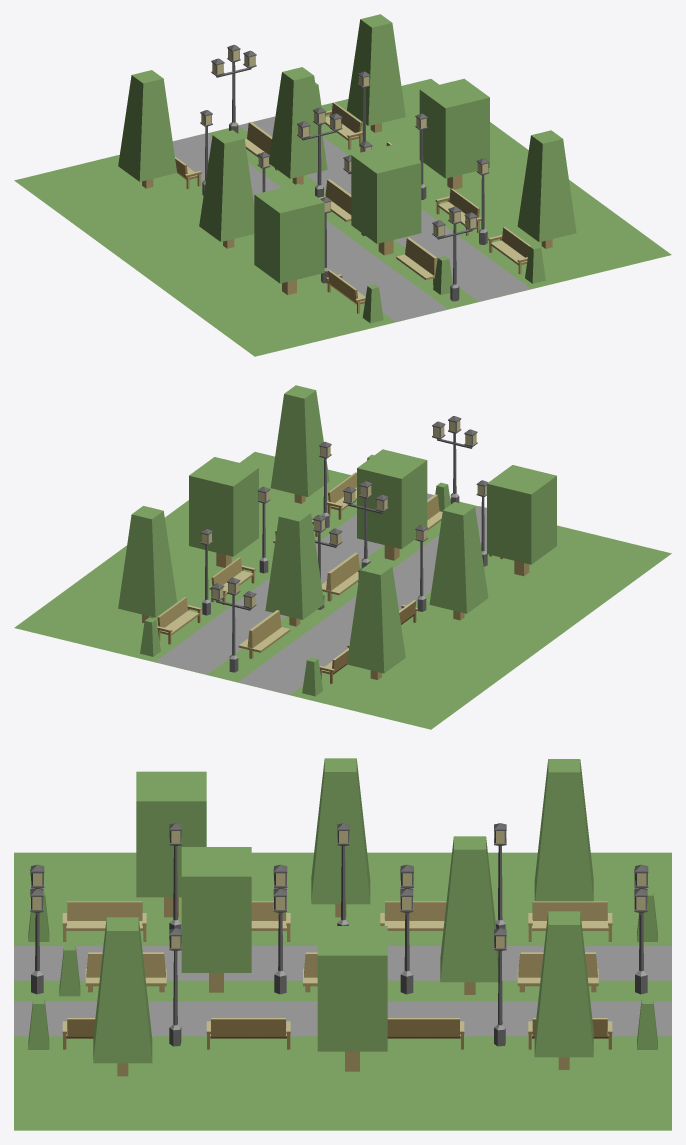
Rendered from park_001.fbx.
3 views of the same model, one above another, from view 1: azimuth 30°, elevation 25°; view 2: azimuth 150°, elevation 25°; view 3: azimuth 270°, elevation 25° (orthographic). The views are drawn at different scales.
Visible parts, largest first — view 1: park_001; view 2: park_001; view 3: park_001.
Part boxes in pixels (x1,y1,x2,y2): park_001: (14, 14, 671, 356); park_001: (14, 385, 671, 729); park_001: (14, 758, 671, 1130).
Size of the model in its own units: 1600 by 417 by 1600.
